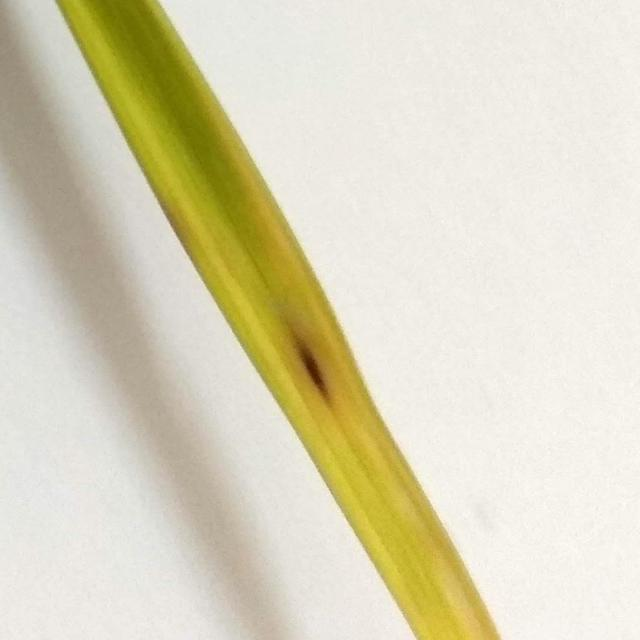Brown spot: (38, 0, 532, 638)
